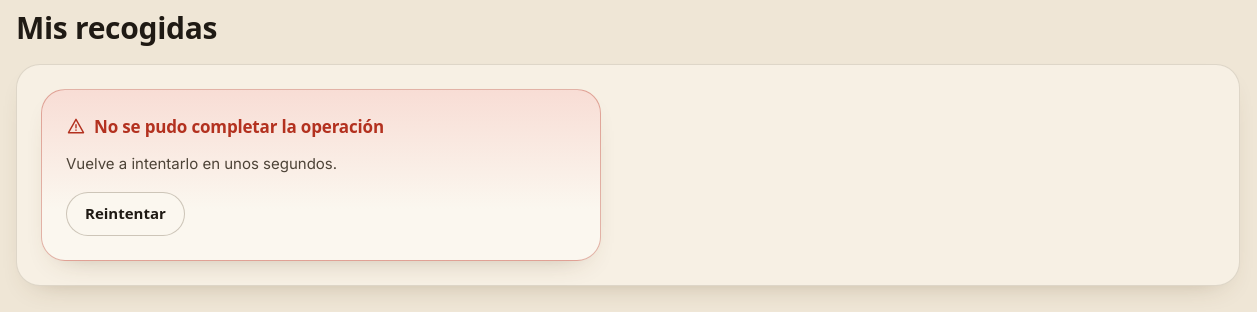
Test: pickup screens › shows an empty list and allows retry after a failed list read
The width and height of the screenshot is (1257, 312).
Click the button "Reintentar": (125, 214) [66,192,185,236]
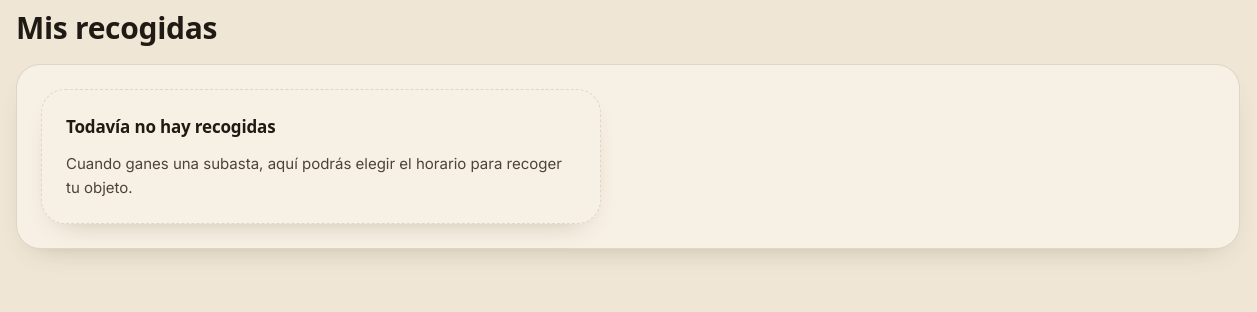
Expected: the text "Todavía no hay recogidas" is shown, [66,114,275,140]
